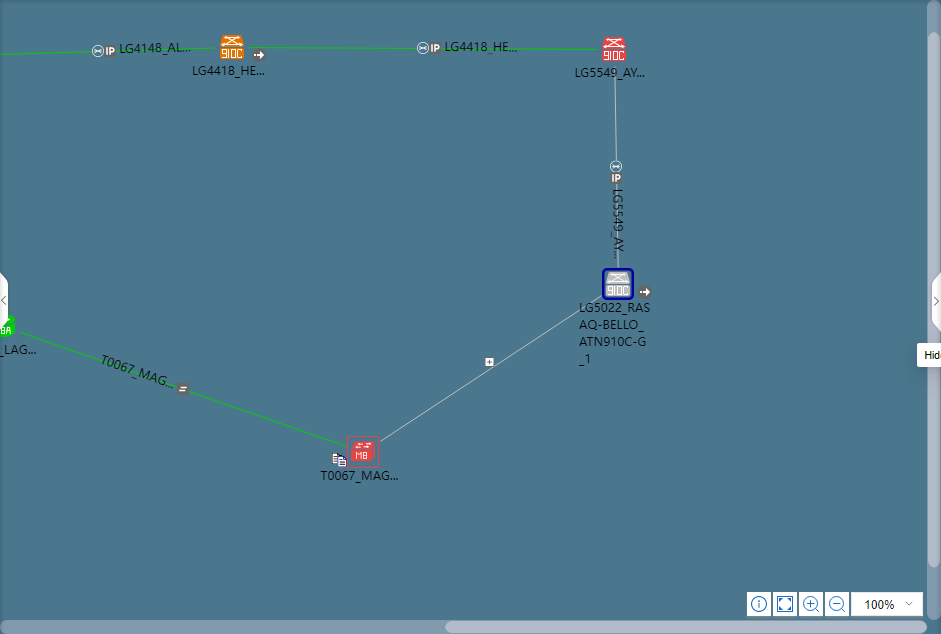ATN_Gray: (603, 269, 633, 299)
ATN_Orange: (220, 35, 243, 59)
ATN_Red: (602, 37, 625, 61)
Link_Gray: (381, 295, 601, 443), (612, 66, 620, 268)
Link_Green: (21, 331, 345, 448), (249, 45, 599, 51), (0, 47, 217, 55)
Router_Green: (0, 315, 16, 338)
Switch_Red: (347, 437, 378, 467)
